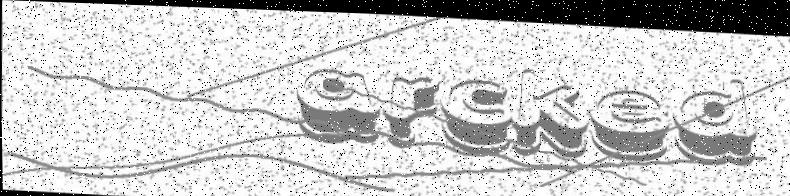a: (290, 60, 383, 144)
c: (438, 71, 513, 153)
d: (667, 68, 761, 164)
e: (586, 81, 671, 159)
k: (509, 62, 590, 155)
r: (384, 69, 439, 149)
